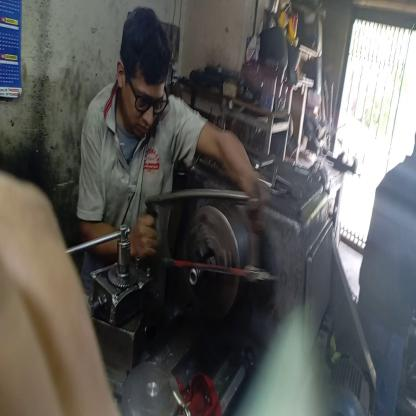lentes: (124, 71, 170, 121)
